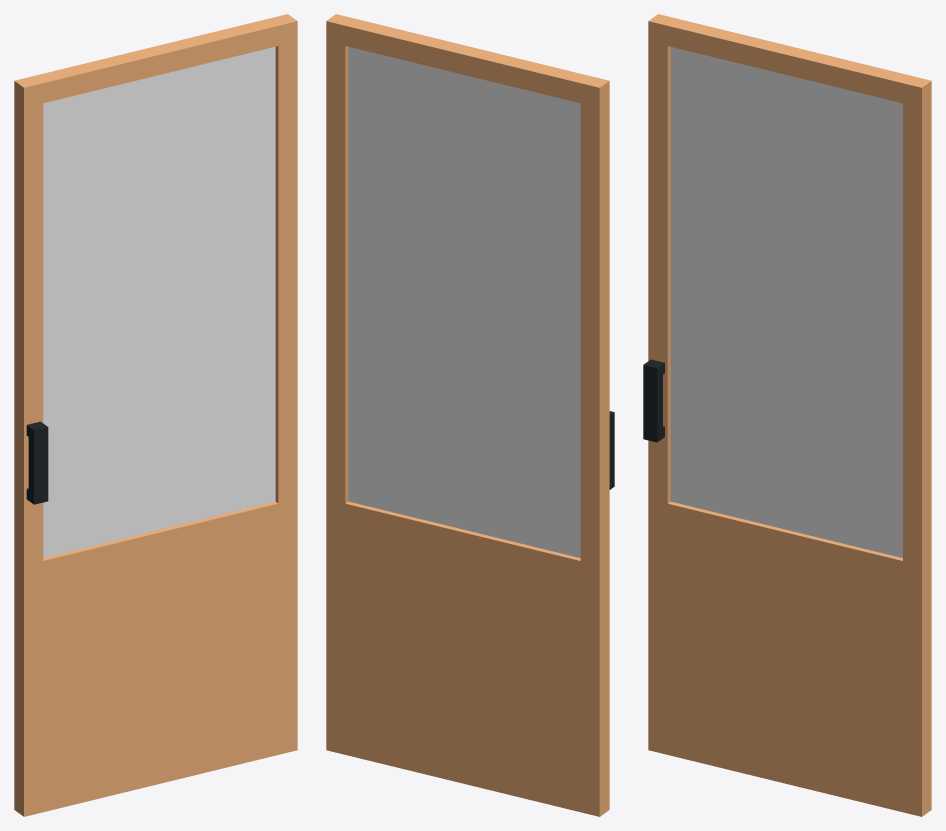
File: Coffee_03_Door02.fbx
3 views of the same model, side by side, from view 1: azimuth 30°, elevation 25°; view 2: azimuth 150°, elevation 25°; view 3: azimuth 330°, elevation 25° (orthographic).
Parts seen in each view (by area): view 1: Coffee_03_Door02; view 2: Coffee_03_Door02; view 3: Coffee_03_Door02.
Part boxes in pixels (x1=…): Coffee_03_Door02: x1=14, y1=14, x2=297, y2=816; Coffee_03_Door02: x1=326, y1=14, x2=614, y2=816; Coffee_03_Door02: x1=643, y1=14, x2=931, y2=816.
Size of the model in its own units: 80.96 by 206 by 8.91.
